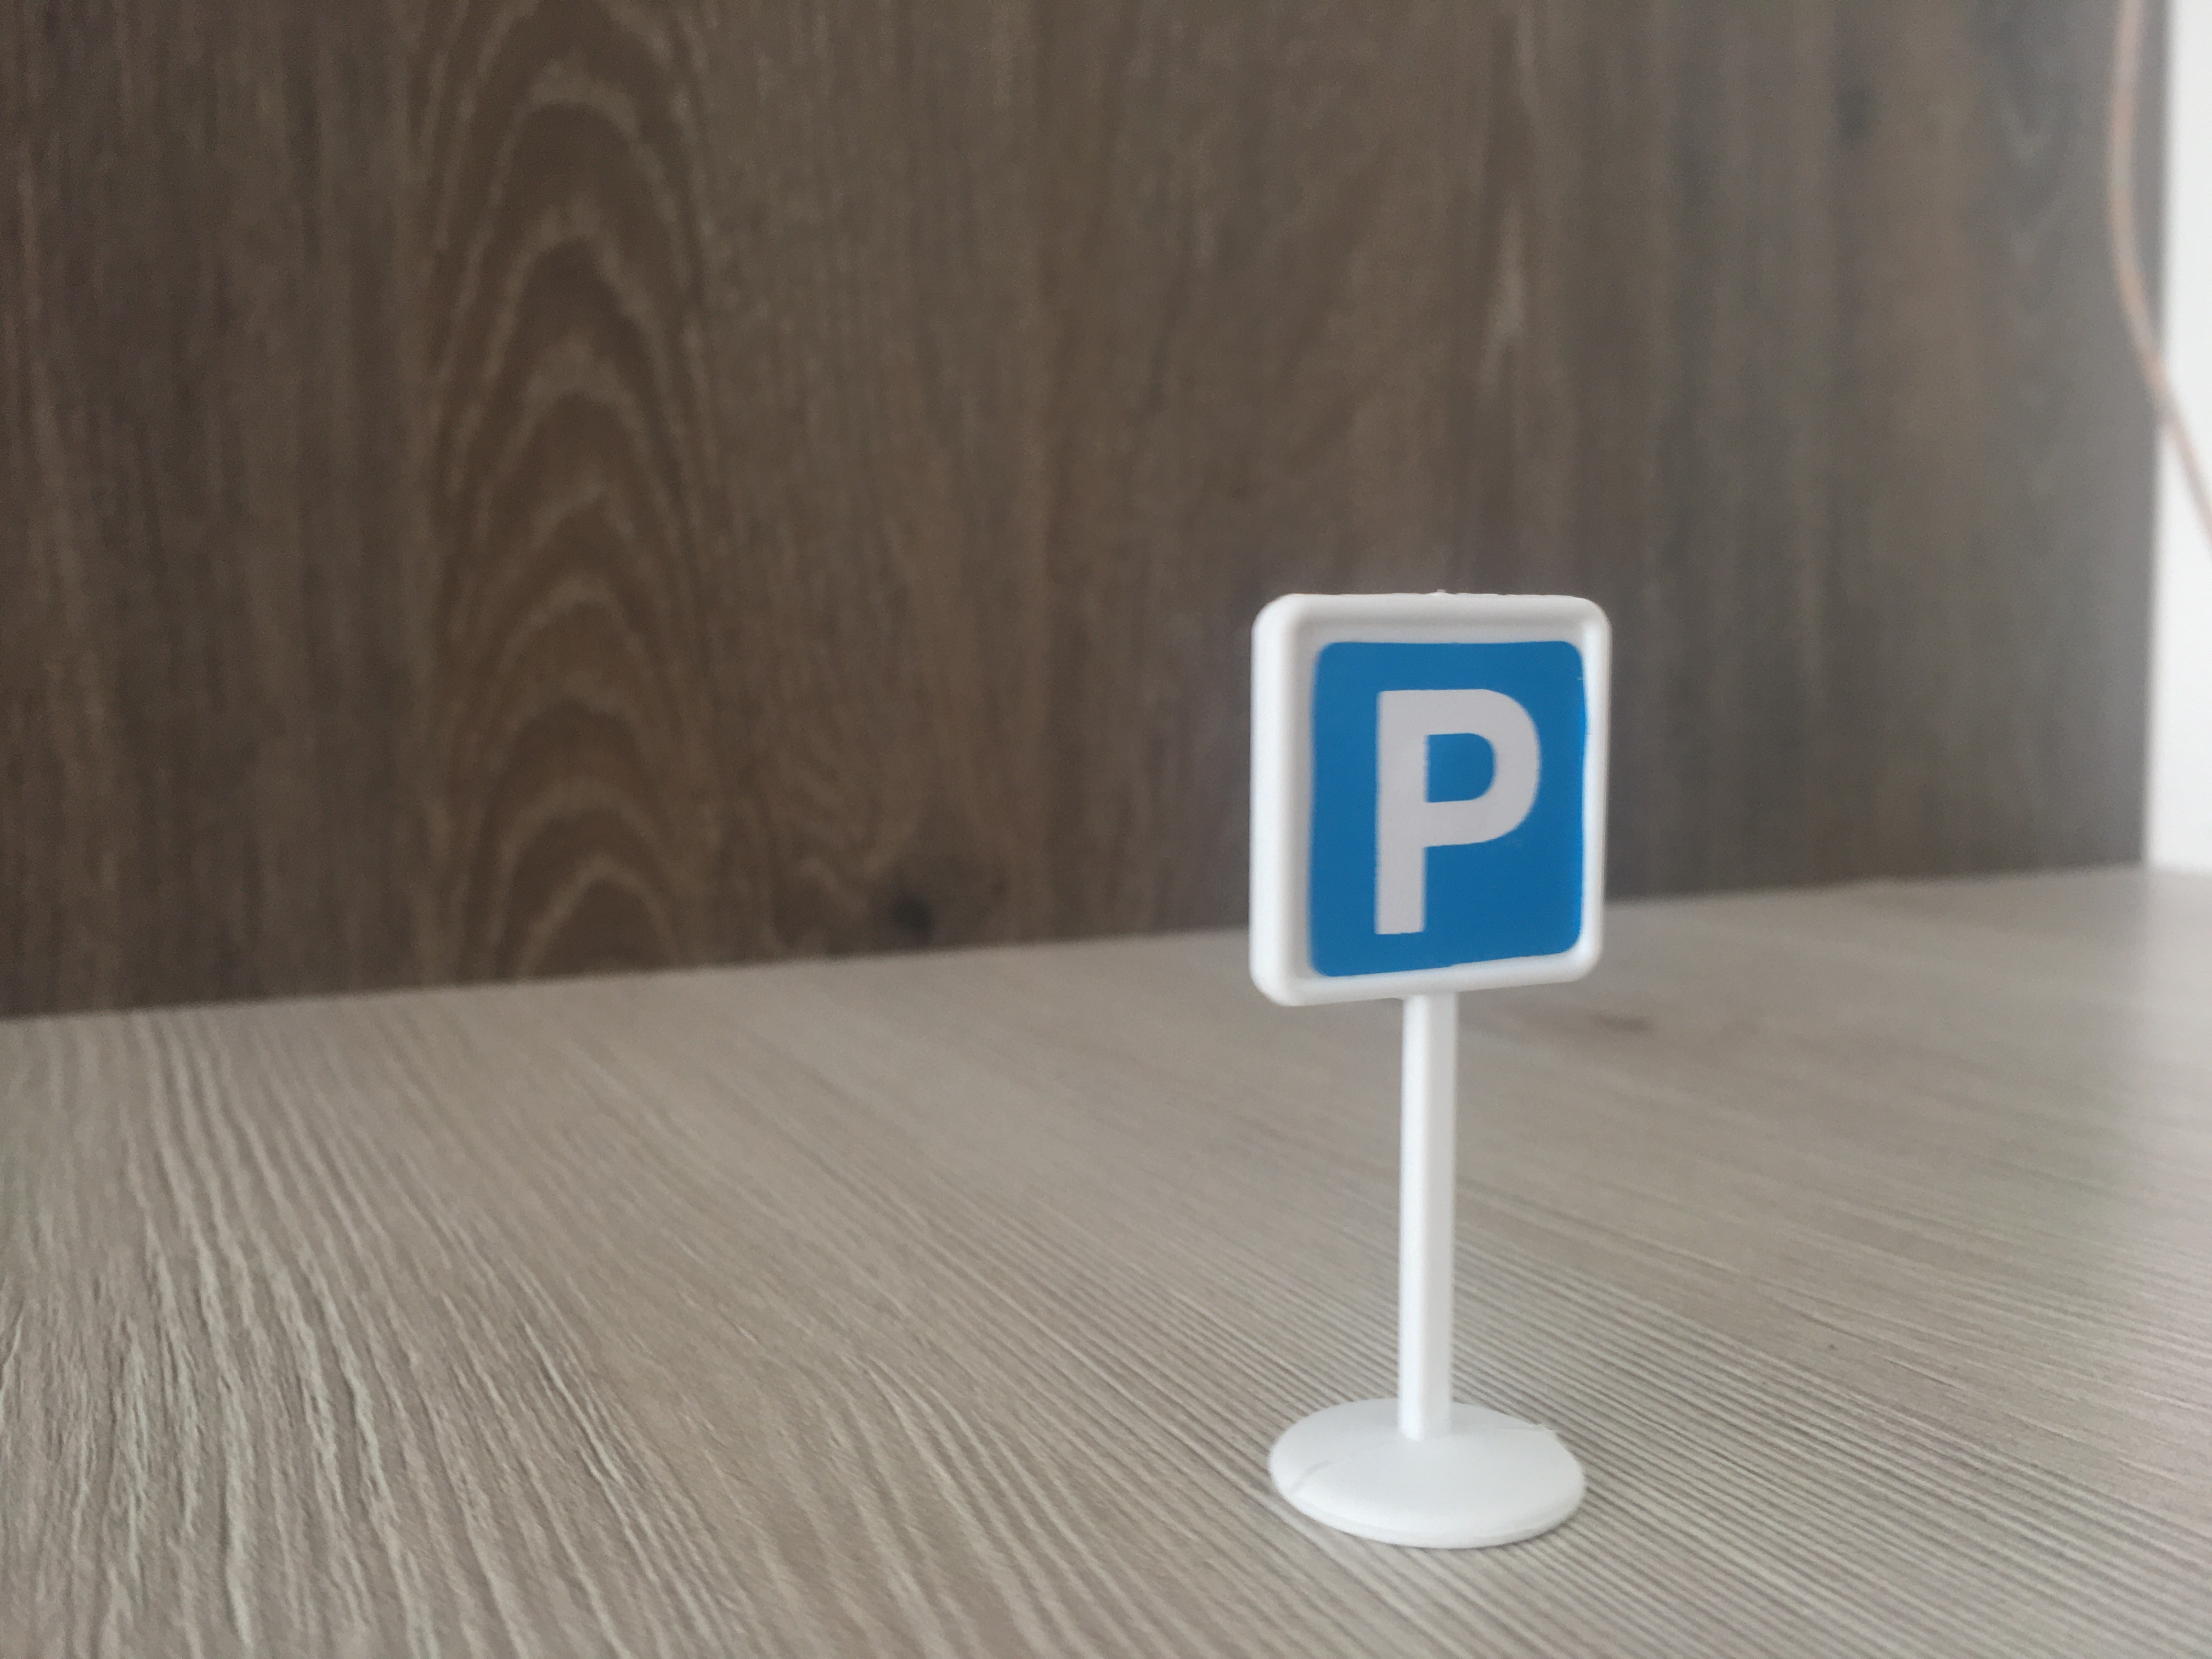parking: (1245, 592, 1611, 1028)
